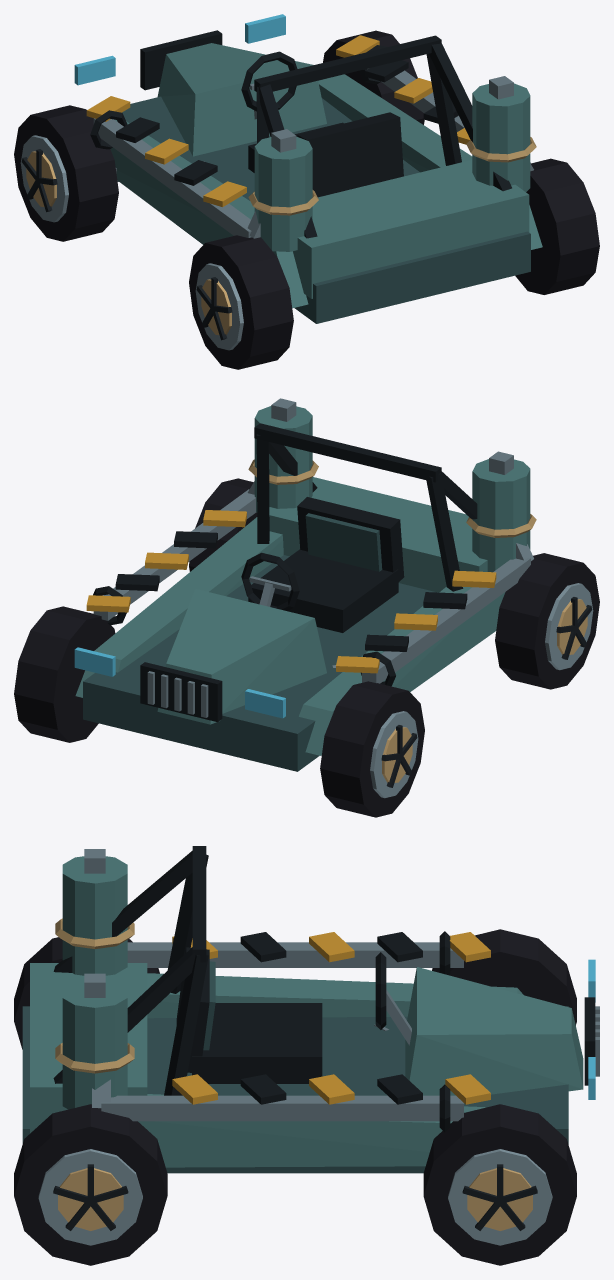
The model's file is kart.glb.
The picture shows the model from 3 angles, top to bottom: view 1: azimuth 30°, elevation 25°; view 2: azimuth 150°, elevation 25°; view 3: azimuth 270°, elevation 25°; orthographic projection. The views are drawn at different scales.
Visible parts, largest first — view 1: identity-buggy-buggy-offroad-frame, identity-buggy-motif-tanks, wheel-rear-left, wheel-front-left, wheel-rear-right, identity-buggy-driver-cockpit, identity-buggy-motif-hazard-stripes, identity-buggy-motif-pipes, wheel-front-right; view 2: identity-buggy-buggy-offroad-frame, identity-buggy-driver-cockpit, wheel-front-left, wheel-rear-left, identity-buggy-motif-tanks, wheel-front-right, identity-buggy-motif-hazard-stripes, identity-buggy-motif-pipes, wheel-rear-right; view 3: identity-buggy-buggy-offroad-frame, wheel-front-right, wheel-rear-right, identity-buggy-motif-tanks, identity-buggy-motif-pipes, identity-buggy-driver-cockpit, identity-buggy-motif-hazard-stripes, wheel-front-left, wheel-rear-left.
Boxes of the visible parts, left/top/right/bottom form: identity-buggy-buggy-offroad-frame: left=74, top=14, right=542, bottom=323; identity-buggy-motif-tanks: left=248, top=76, right=536, bottom=251; wheel-rear-left: left=189, top=235, right=293, bottom=369; wheel-front-left: left=14, top=105, right=118, bottom=241; wheel-rear-right: left=515, top=158, right=599, bottom=294; identity-buggy-driver-cockpit: left=241, top=51, right=403, bottom=197; identity-buggy-motif-hazard-stripes: left=86, top=35, right=470, bottom=207; identity-buggy-motif-pipes: left=90, top=45, right=533, bottom=238; wheel-front-right: left=323, top=30, right=424, bottom=124; identity-buggy-buggy-offroad-frame: left=74, top=423, right=505, bottom=771; identity-buggy-driver-cockpit: left=241, top=497, right=404, bottom=632; wheel-front-left: left=320, top=681, right=424, bottom=817; wheel-rear-left: left=495, top=553, right=599, bottom=689; identity-buggy-motif-tanks: left=248, top=398, right=536, bottom=572; wheel-front-right: left=14, top=606, right=115, bottom=742; identity-buggy-motif-hazard-stripes: left=86, top=510, right=496, bottom=673; identity-buggy-motif-pipes: left=93, top=481, right=533, bottom=686; wheel-rear-right: left=189, top=478, right=257, bottom=571; identity-buggy-buggy-offroad-frame: left=22, top=846, right=599, bottom=1173; wheel-front-right: left=423, top=1104, right=576, bottom=1265; wheel-rear-right: left=14, top=1104, right=167, bottom=1265; identity-buggy-motif-tanks: left=55, top=849, right=134, bottom=1109; identity-buggy-motif-pipes: left=92, top=931, right=463, bottom=1132; identity-buggy-driver-cockpit: left=176, top=947, right=411, bottom=1083; identity-buggy-motif-hazard-stripes: left=172, top=932, right=490, bottom=1104; wheel-front-left: left=432, top=929, right=576, bottom=1025; wheel-rear-left: left=14, top=937, right=159, bottom=1049.
Bounding box in the file's own units: 2.31 × 1.39 × 2.75.
